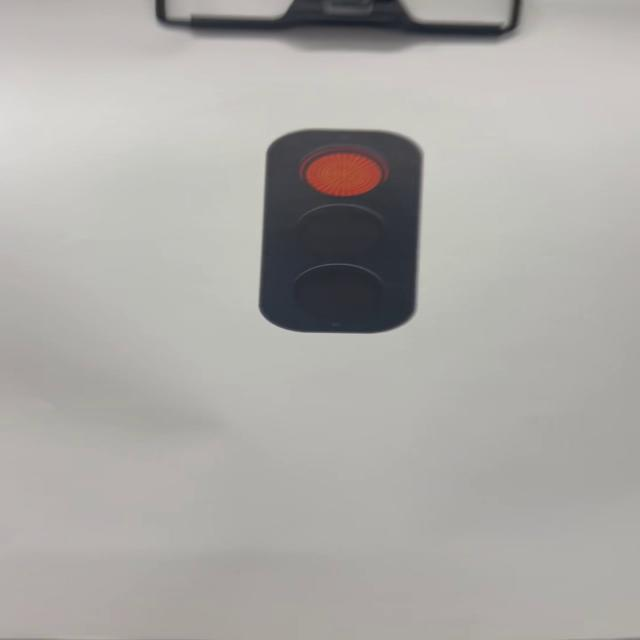red: (264, 126, 421, 333)
